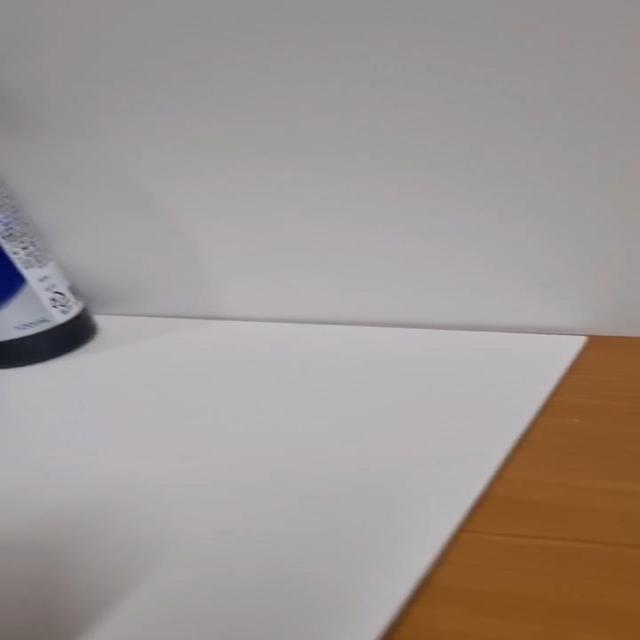Glass: (0, 178, 101, 371)
